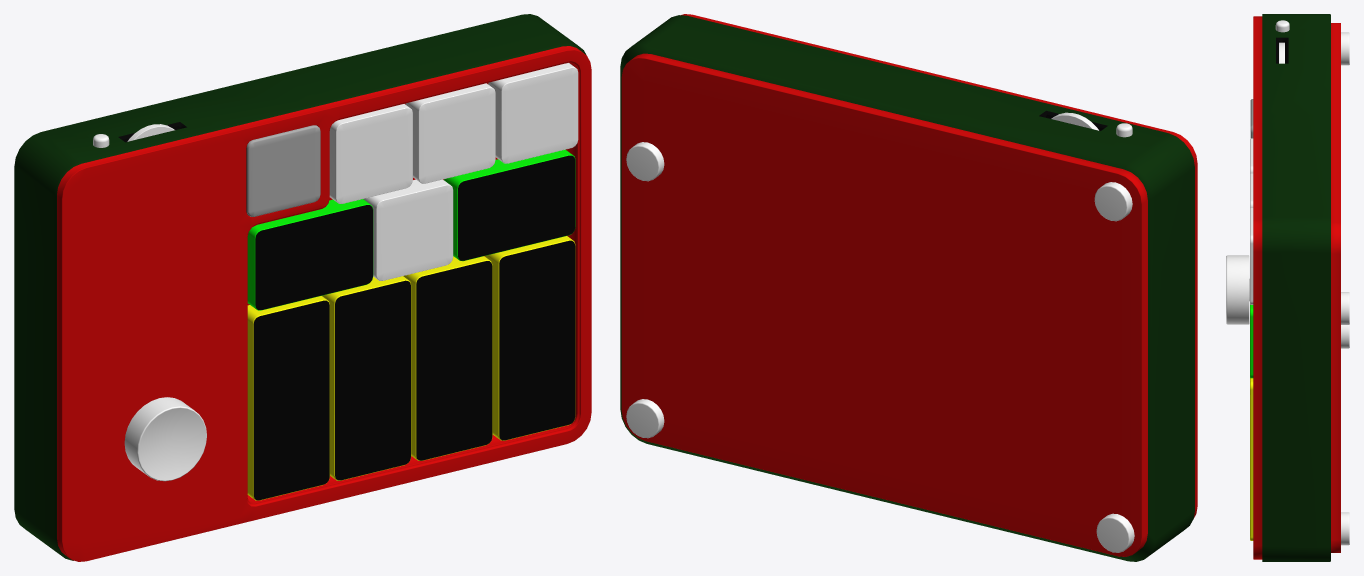
The model's file is HI_CORD_LOW.fbx.
3 renders of one model, left to right at view 1: azimuth 30°, elevation 25°; view 2: azimuth 150°, elevation 25°; view 3: azimuth 270°, elevation 25°, orthographic. The views are drawn at different scales.
Visible parts, largest first — view 1: Case_Body, Button_L_07, Button_L_01, Button_L_06, Button_L_05, Button_M_L, Button_M_L1, Button_T_03, Button_T_04, Button_T_02, Button_T_01, Screen (+1 smaller); view 2: Case_Body, Rubber_Pads; view 3: Case_Body, Pitch_Analogue, Rubber_Pads, Button_L_07, Button_T_03, Button_M_L1.
Part boxes in pixels (x1,y1,x2,y2): Case_Body: [14, 14, 591, 561]; Button_L_07: [485, 236, 575, 440]; Button_L_01: [247, 296, 329, 500]; Button_L_06: [403, 256, 492, 460]; Button_L_05: [322, 276, 411, 480]; Button_M_L: [247, 199, 373, 310]; Button_M_L1: [444, 149, 575, 261]; Button_T_03: [488, 63, 578, 163]; Button_T_04: [363, 179, 453, 280]; Button_T_02: [405, 83, 495, 183]; Button_T_01: [329, 104, 412, 203]; Screen: [246, 125, 320, 216]; Case_Body: [620, 14, 1197, 561]; Rubber_Pads: [626, 142, 1134, 552]; Case_Body: [1253, 14, 1340, 561]; Pitch_Analogue: [1226, 255, 1249, 324]; Rubber_Pads: [1341, 32, 1349, 545]; Button_L_07: [1250, 378, 1253, 540]; Button_T_03: [1250, 207, 1253, 304]; Button_M_L1: [1250, 304, 1253, 378].
Bounding box in the file's own units: 10.97 × 7.98 × 2.56.
